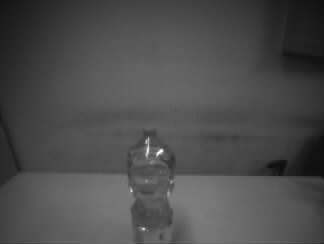Bottle: (127, 127, 178, 244)
